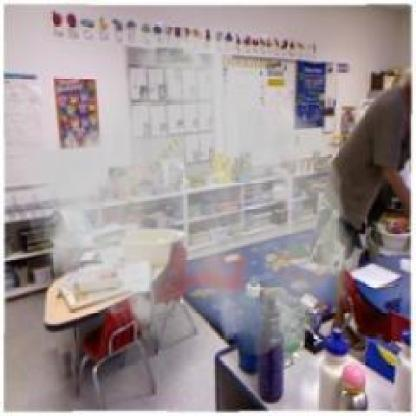Smoke: (24, 15, 361, 358)
